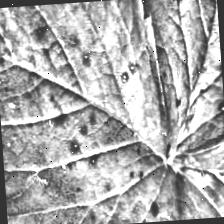Leaf Spot: (0, 0, 180, 224), (115, 0, 224, 159), (161, 89, 224, 220)
